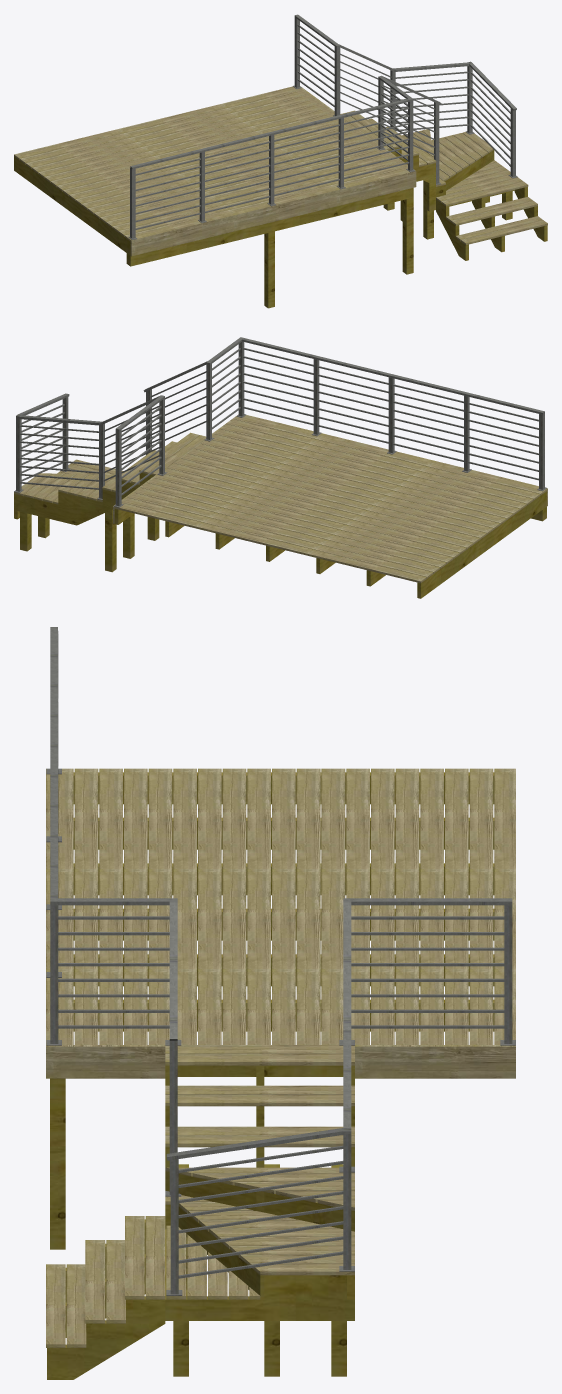
Rendered from deck_wit_sets_of_stairs_and_guardrails.glb.
The picture shows the model from 3 angles, top to bottom: view 1: azimuth 30°, elevation 25°; view 2: azimuth 150°, elevation 25°; view 3: azimuth 270°, elevation 25°; orthographic projection. The views are drawn at different scales.
Visible parts, largest first — view 1: Mesh67_Wood_Lumber_ButtJoined_0, Mesh68_Wood_Plywood_Knots_0, Mesh124_Wood_Lumber_ButtJoined_0, Mesh126_Wood_Lumber_ButtJoined_0, Mesh149_Wood_Lumber_ButtJoined_0, Mesh142_Wood_Lumber_ButtJoined_0, Mesh138_Wood_Lumber_ButtJoined_0, Mesh132_Wood_Lumber_ButtJoined_0, Mesh125_Wood_Lumber_ButtJoined_0, Mesh148_Wood_Plywood_Knots_0, Mesh137_Wood_Lumber_ButtJoined_0, Mesh143_Wood_Lumber_ButtJoined_0 (+44 smaller); view 2: Mesh125_Wood_Lumber_ButtJoined_0, Mesh90_Wood_Plywood_Knots_0, Mesh127_Wood_Lumber_ButtJoined_0, Mesh142_Wood_Lumber_ButtJoined_0, Mesh146_Wood_Lumber_ButtJoined_0, Mesh150_Wood_Lumber_ButtJoined_0, Mesh126_Wood_Lumber_ButtJoined_0, Mesh131_Wood_Lumber_ButtJoined_0, Mesh132_Wood_Lumber_ButtJoined_0, Mesh144_Wood_Lumber_ButtJoined_0, Mesh143_Wood_Lumber_ButtJoined_0, Mesh138_Wood_Lumber_ButtJoined_0 (+36 smaller); view 3: Mesh15_Wood_Plywood_Knots_0, Mesh150_Wood_Lumber_ButtJoined_0, Mesh143_Wood_Lumber_ButtJoined_0, Mesh130_Wood_Lumber_ButtJoined_0, Mesh131_Wood_Lumber_ButtJoined_0, Mesh144_Wood_Lumber_ButtJoined_0, Mesh139_Wood_Lumber_ButtJoined_0, Mesh124_Wood_Lumber_ButtJoined_0, Mesh127_Wood_Lumber_ButtJoined_0, Mesh142_Wood_Lumber_ButtJoined_0, Mesh129_Wood_Lumber_ButtJoined_0, Mesh126_Wood_Lumber_ButtJoined_0 (+51 smaller).
Boxes of the visible parts, bbox=[...] form: Mesh67_Wood_Lumber_ButtJoined_0: bbox=[130, 149, 416, 256]; Mesh68_Wood_Plywood_Knots_0: bbox=[126, 188, 413, 266]; Mesh124_Wood_Lumber_ButtJoined_0: bbox=[19, 89, 308, 164]; Mesh126_Wood_Lumber_ButtJoined_0: bbox=[32, 98, 320, 173]; Mesh149_Wood_Lumber_ButtJoined_0: bbox=[44, 107, 332, 182]; Mesh142_Wood_Lumber_ButtJoined_0: bbox=[38, 103, 326, 177]; Mesh138_Wood_Lumber_ButtJoined_0: bbox=[26, 94, 314, 168]; Mesh132_Wood_Lumber_ButtJoined_0: bbox=[106, 153, 394, 227]; Mesh125_Wood_Lumber_ButtJoined_0: bbox=[14, 86, 302, 159]; Mesh148_Wood_Plywood_Knots_0: bbox=[14, 156, 130, 255]; Mesh137_Wood_Lumber_ButtJoined_0: bbox=[124, 166, 408, 241]; Mesh143_Wood_Lumber_ButtJoined_0: bbox=[81, 135, 369, 209]; Mesh125_Wood_Lumber_ButtJoined_0: bbox=[114, 503, 426, 583]; Mesh90_Wood_Plywood_Knots_0: bbox=[14, 473, 153, 525]; Mesh127_Wood_Lumber_ButtJoined_0: bbox=[228, 419, 540, 500]; Mesh142_Wood_Lumber_ButtJoined_0: bbox=[141, 483, 453, 563]; Mesh146_Wood_Lumber_ButtJoined_0: bbox=[221, 424, 533, 505]; Mesh150_Wood_Lumber_ButtJoined_0: bbox=[168, 463, 480, 544]; Mesh126_Wood_Lumber_ButtJoined_0: bbox=[134, 488, 446, 568]; Mesh131_Wood_Lumber_ButtJoined_0: bbox=[174, 458, 486, 539]; Mesh132_Wood_Lumber_ButtJoined_0: bbox=[214, 429, 526, 510]; Mesh144_Wood_Lumber_ButtJoined_0: bbox=[194, 444, 506, 524]; Mesh143_Wood_Lumber_ButtJoined_0: bbox=[188, 448, 500, 529]; Mesh138_Wood_Lumber_ButtJoined_0: bbox=[128, 492, 439, 573]; Mesh15_Wood_Plywood_Knots_0: bbox=[165, 1171, 354, 1320]; Mesh150_Wood_Lumber_ButtJoined_0: bbox=[296, 768, 320, 1044]; Mesh143_Wood_Lumber_ButtJoined_0: bbox=[222, 768, 246, 1044]; Mesh130_Wood_Lumber_ButtJoined_0: bbox=[247, 768, 270, 1044]; Mesh131_Wood_Lumber_ButtJoined_0: bbox=[272, 768, 295, 1044]; Mesh144_Wood_Lumber_ButtJoined_0: bbox=[198, 768, 221, 1044]; Mesh139_Wood_Lumber_ButtJoined_0: bbox=[321, 768, 345, 1044]; Mesh124_Wood_Lumber_ButtJoined_0: bbox=[469, 768, 493, 1044]; Mesh127_Wood_Lumber_ButtJoined_0: bbox=[74, 768, 98, 1044]; Mesh142_Wood_Lumber_ButtJoined_0: bbox=[395, 768, 419, 1044]; Mesh129_Wood_Lumber_ButtJoined_0: bbox=[173, 768, 196, 1044]; Mesh126_Wood_Lumber_ButtJoined_0: bbox=[420, 768, 443, 1044].
Bounding box in the file's own units: 244 × 97.19 × 119.
Materials: 3 (3 with a texture image).
